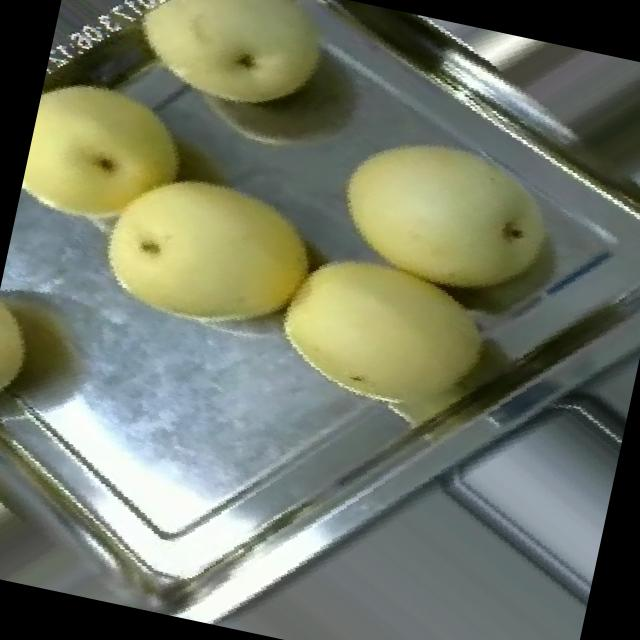Fruit: (302, 96, 592, 337), (250, 218, 526, 460), (73, 134, 341, 360), (12, 46, 221, 266), (96, 0, 357, 155), (0, 267, 57, 443)
